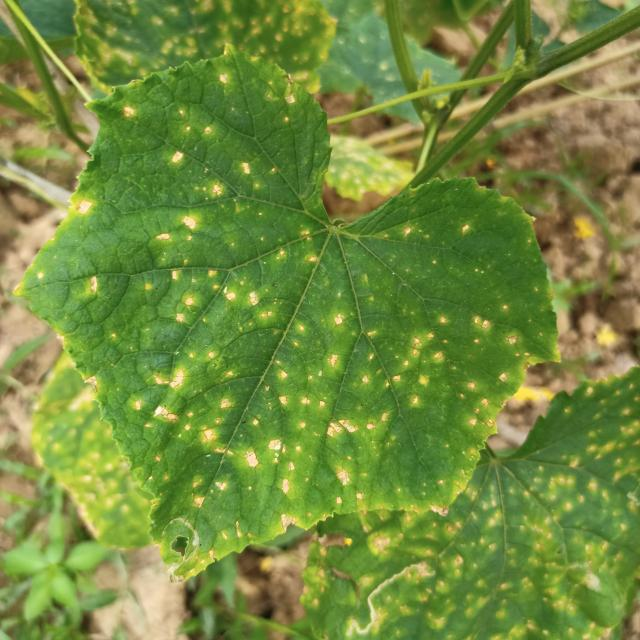disease_cucumber: (49, 213, 547, 551), (123, 70, 305, 229), (75, 195, 94, 215)
